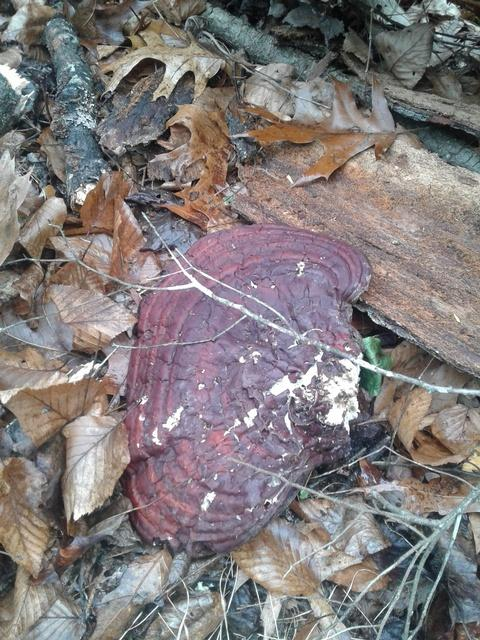Non-edible Mushroom: (119, 221, 373, 558)
